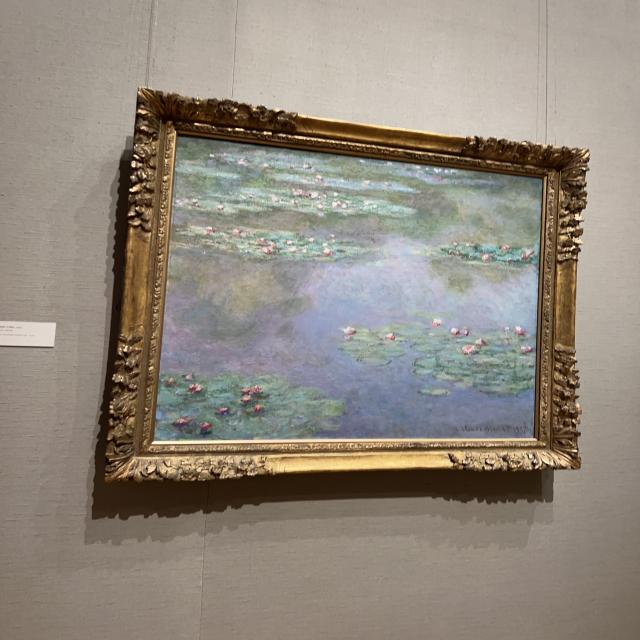lilies: (154, 137, 542, 440)
